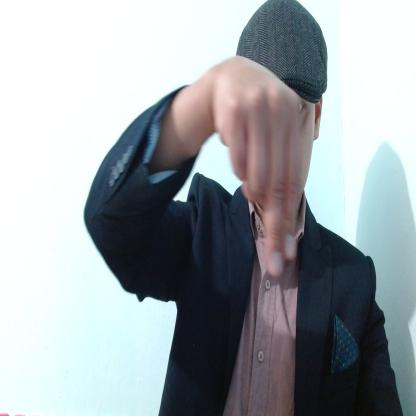N: (214, 54, 306, 278)
